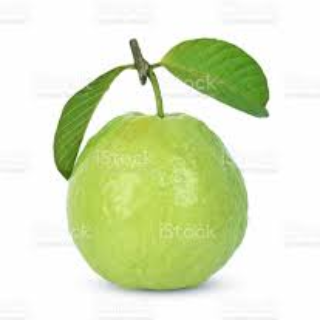oi: (60, 89, 256, 298)
